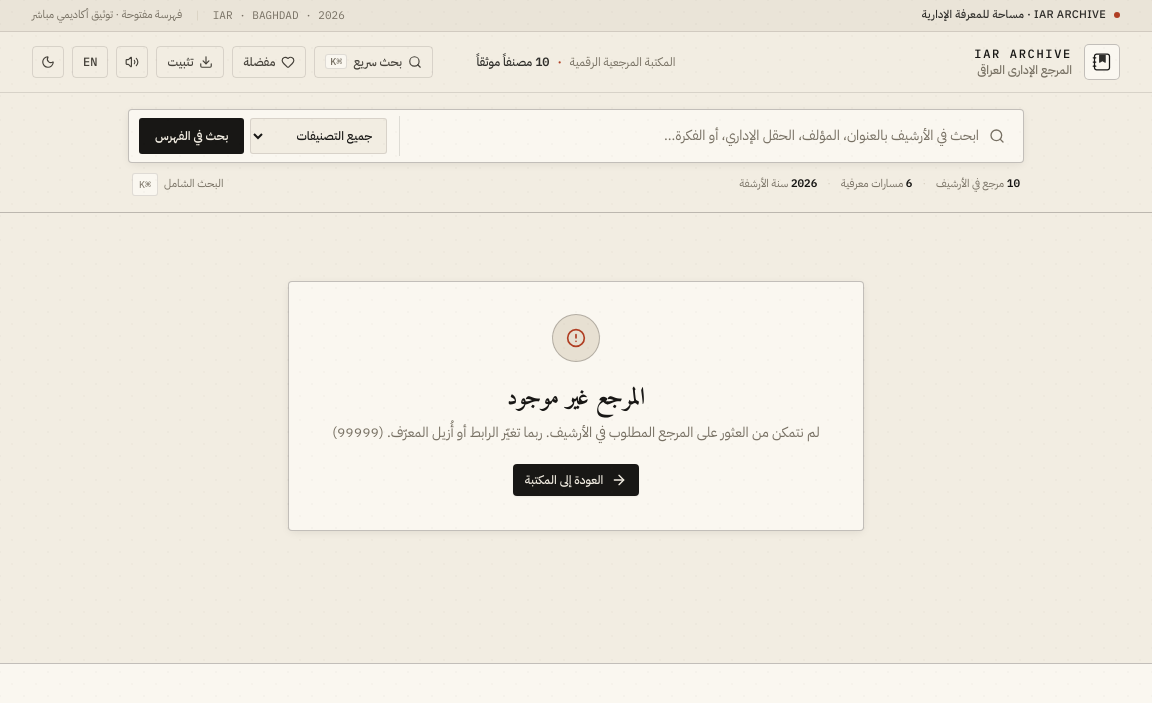
Phase 2.3A & 2.3B — Library UI, Reference Experience & Interactive Modals › renders BookNotFoundView for invalid or non-existent ?book= URL parameters and recovers to the library
The width and height of the screenshot is (1152, 703).
expect the element with test id "book-not-found-view" is shown: met, box [288, 281, 864, 531]
expect the heading with test id "book-not-found-title" reads "المرجع غير موجود": met, box [507, 377, 645, 419]
// Clicking "العودة إلى المكتبة" cleans ?book from the URL and shows the library grid
Step 1. Click the button with test id "not-found-back-btn" → [576, 480], box [513, 464, 639, 496]
(page scrolled)
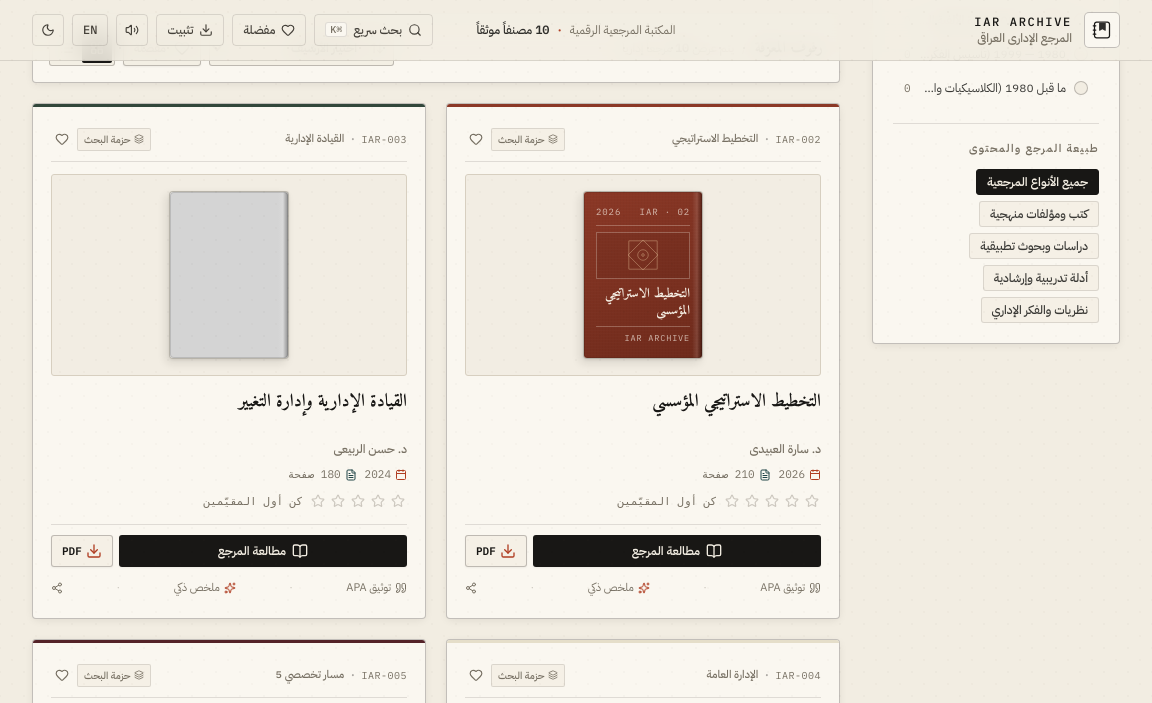
expect the element with test id "book-not-found-view" is gone: met
expect the element with test id "book-card-2" is shown: met, box [446, 102, 840, 619]
